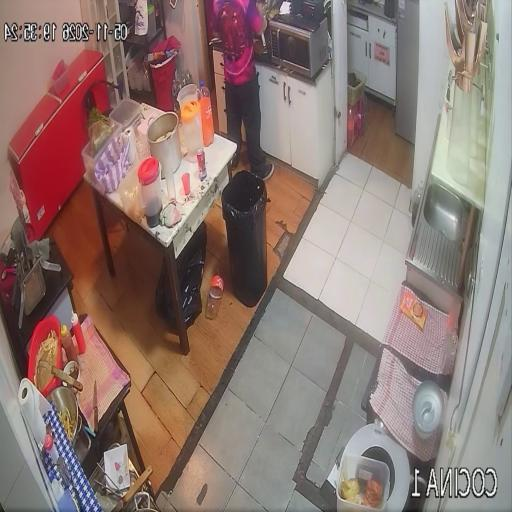Basurero: (222, 171, 267, 307)
Cuchillo1: (93, 380, 98, 434)
Envase Llajua: (61, 326, 77, 362)
Envase salsa: (71, 313, 86, 354)
Jarra1: (138, 157, 162, 228)
Jarra2: (181, 99, 204, 162)
Jarra3: (178, 83, 198, 109)
Microondas: (270, 18, 329, 76)
Persona1: (212, 0, 271, 179)
Tapa de olla: (413, 381, 444, 439)
Taper: (336, 452, 390, 512)
Taper2: (111, 99, 141, 130)
Taper3: (82, 118, 123, 181)
Taper4: (117, 163, 144, 221)
Vaso1: (182, 173, 190, 195)
botella: (199, 81, 214, 145)
olla1: (147, 112, 182, 179)
